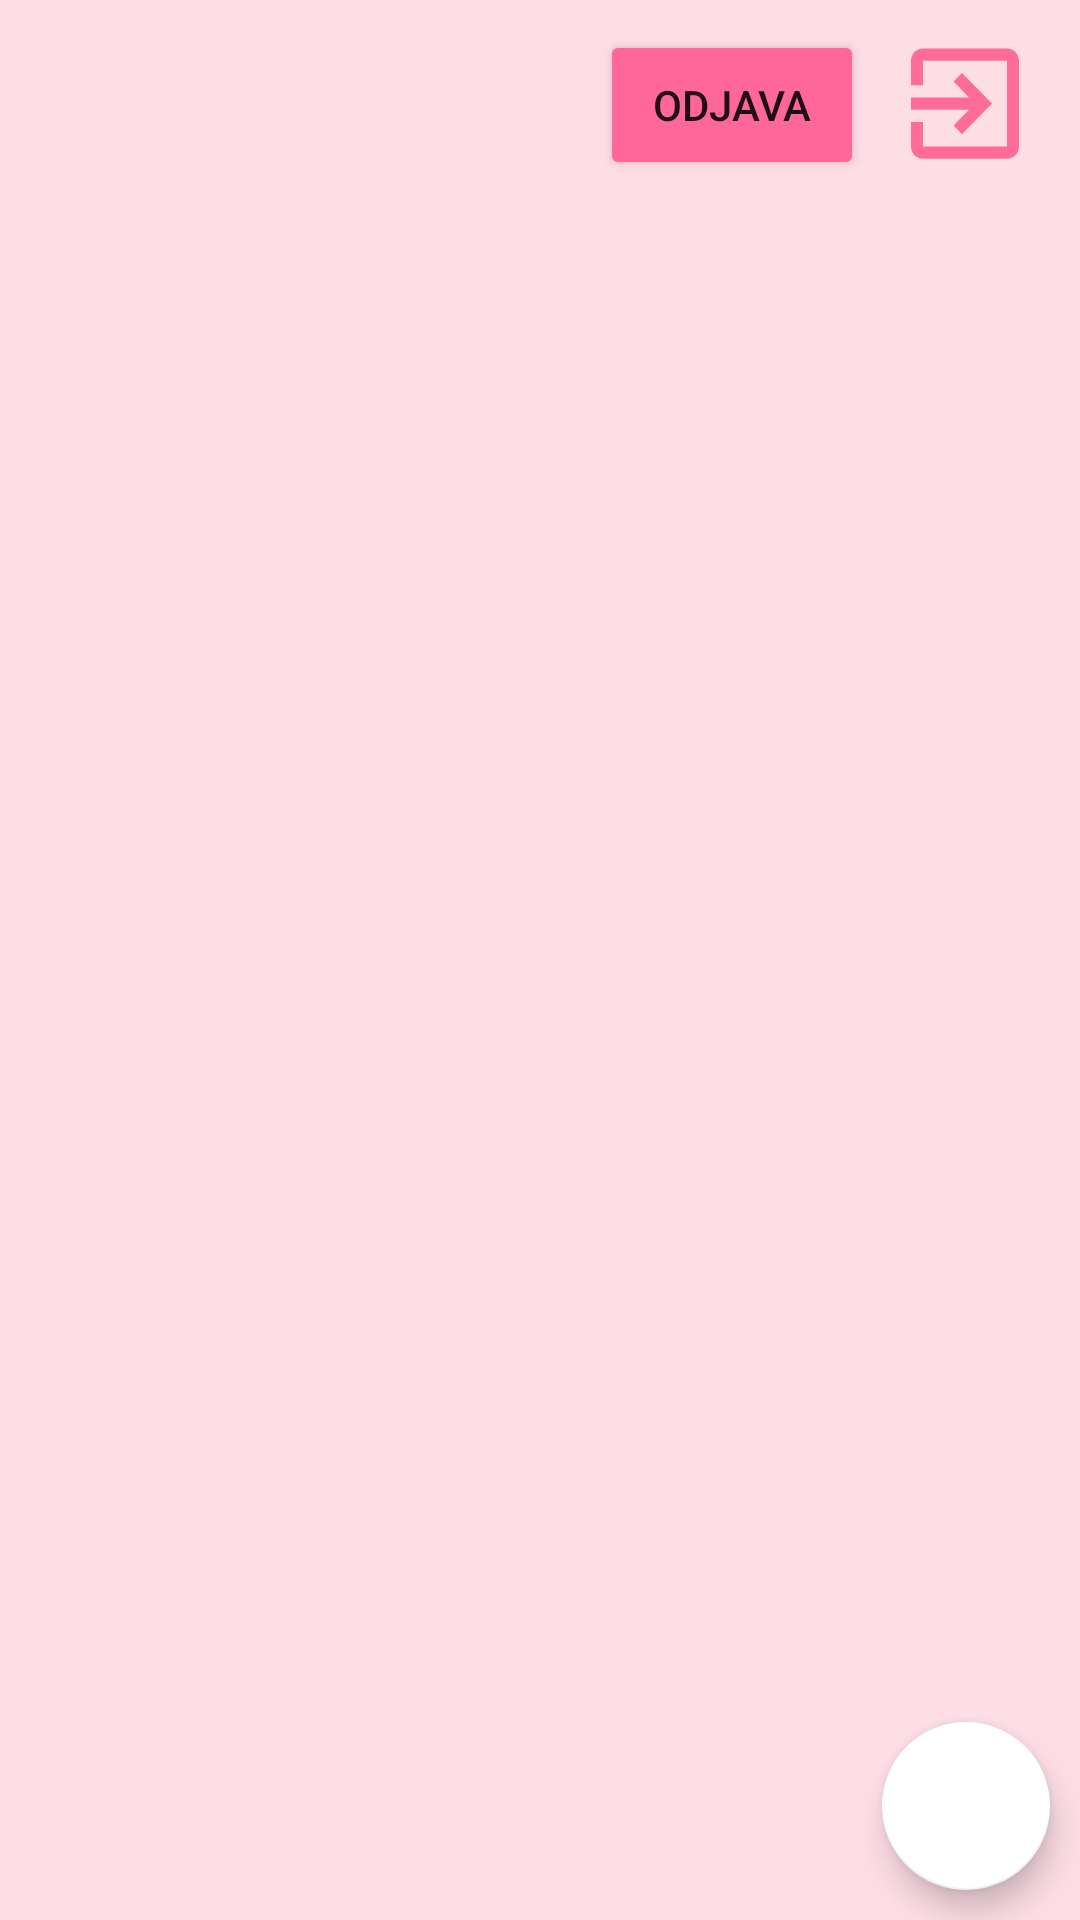

Named icons in this screenshot (1080 x 1920) and their bounding boxes, box=[x1, y1, x2, y2]:
exit to app: box=[911, 48, 1019, 159]
